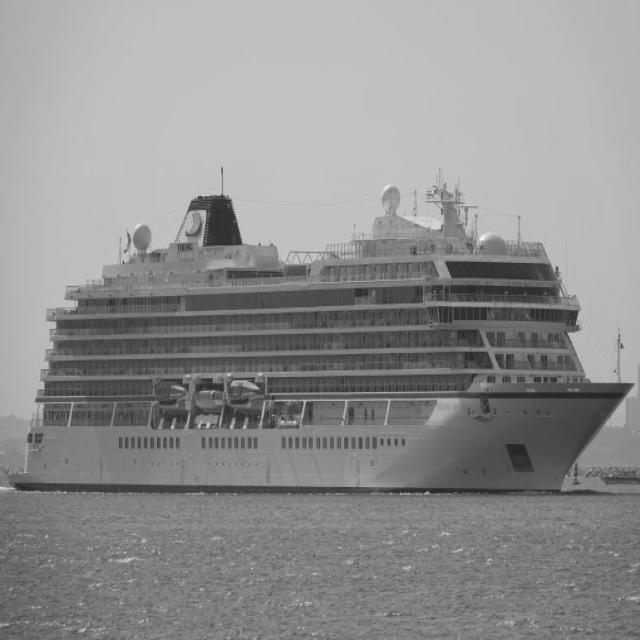cruises: (6, 159, 639, 505)
